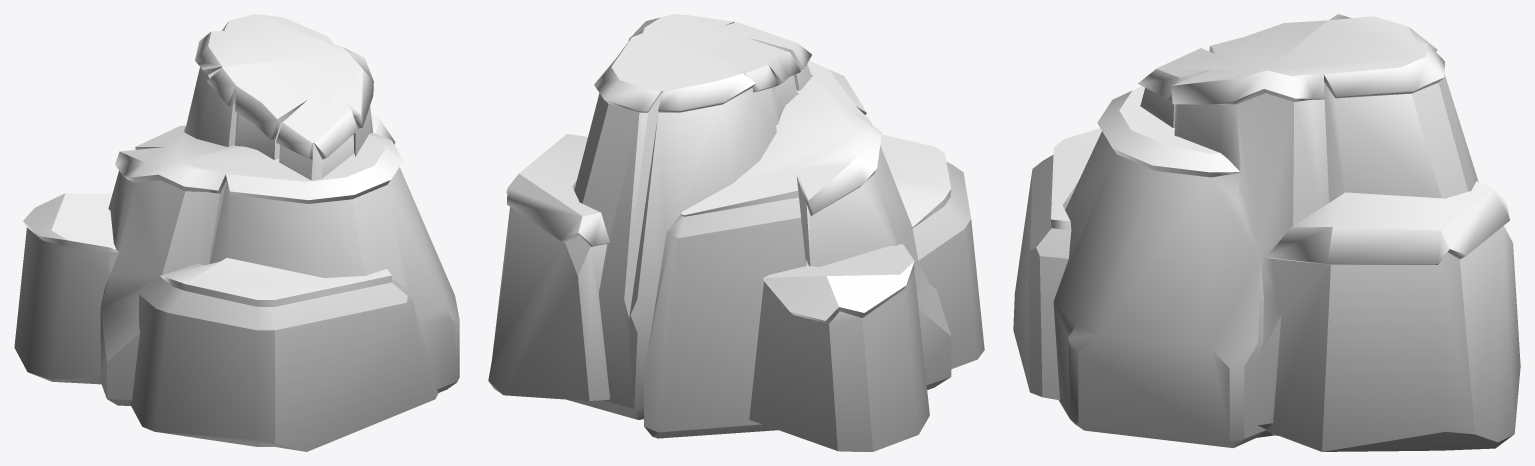
The model's file is Rock_2.fbx.
3 renders of one model, left to right at view 1: azimuth 30°, elevation 25°; view 2: azimuth 150°, elevation 25°; view 3: azimuth 270°, elevation 25°, orthographic. The views are drawn at different scales.
Parts seen in each view (by area): view 1: Rock_2, Rock_2_Snow; view 2: Rock_2, Rock_2_Snow; view 3: Rock_2, Rock_2_Snow.
Boxes of the visible parts, x1,y1,x2,y2 form: Rock_2: [14, 67, 459, 451]; Rock_2_Snow: [23, 14, 403, 306]; Rock_2: [488, 64, 984, 451]; Rock_2_Snow: [506, 14, 951, 323]; Rock_2: [1013, 74, 1520, 451]; Rock_2_Snow: [1051, 14, 1509, 264].
Bounding box in the file's own units: 15.99 × 12.66 × 16.47.
